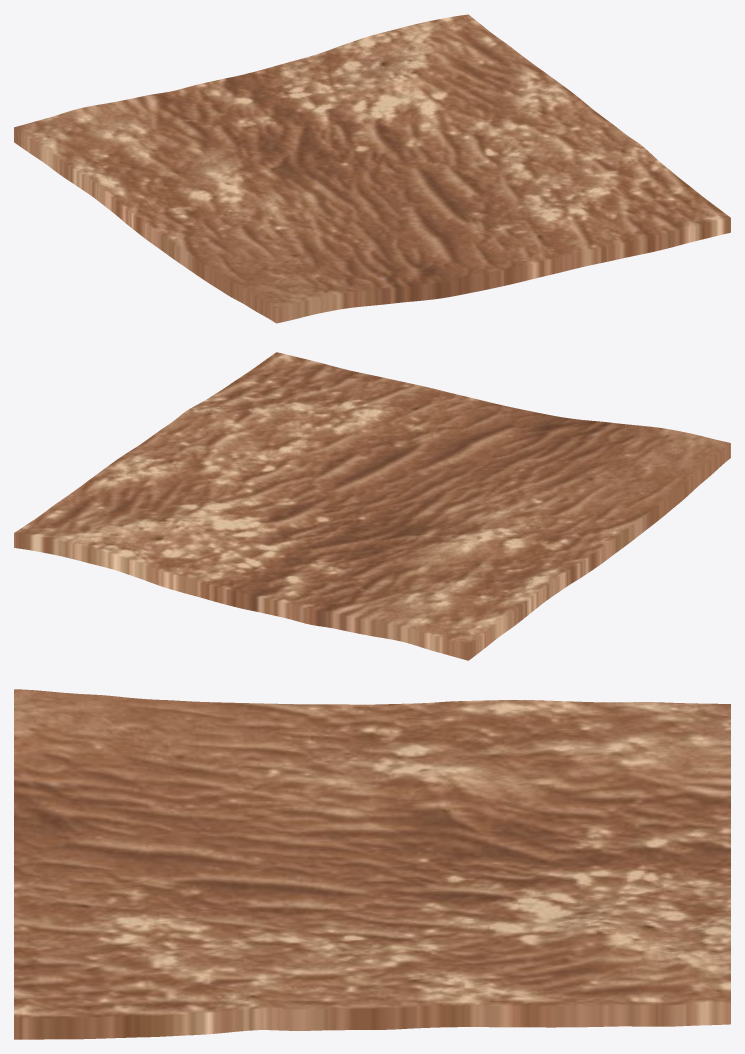
3 renders of one model, top to bottom at view 1: azimuth 30°, elevation 25°; view 2: azimuth 150°, elevation 25°; view 3: azimuth 270°, elevation 25°, orthographic. The views are drawn at different scales.
Visible parts, largest first — view 1: L7_65_47; view 2: L7_65_47; view 3: L7_65_47.
Boxes of the visible parts, x1,y1,x2,y2 form: L7_65_47: (14, 14, 730, 323); L7_65_47: (14, 352, 730, 660); L7_65_47: (14, 689, 730, 1039).
Size of the model in its own units: 113 by 8.35 by 113.
Materials: 1 (1 with a texture image).
